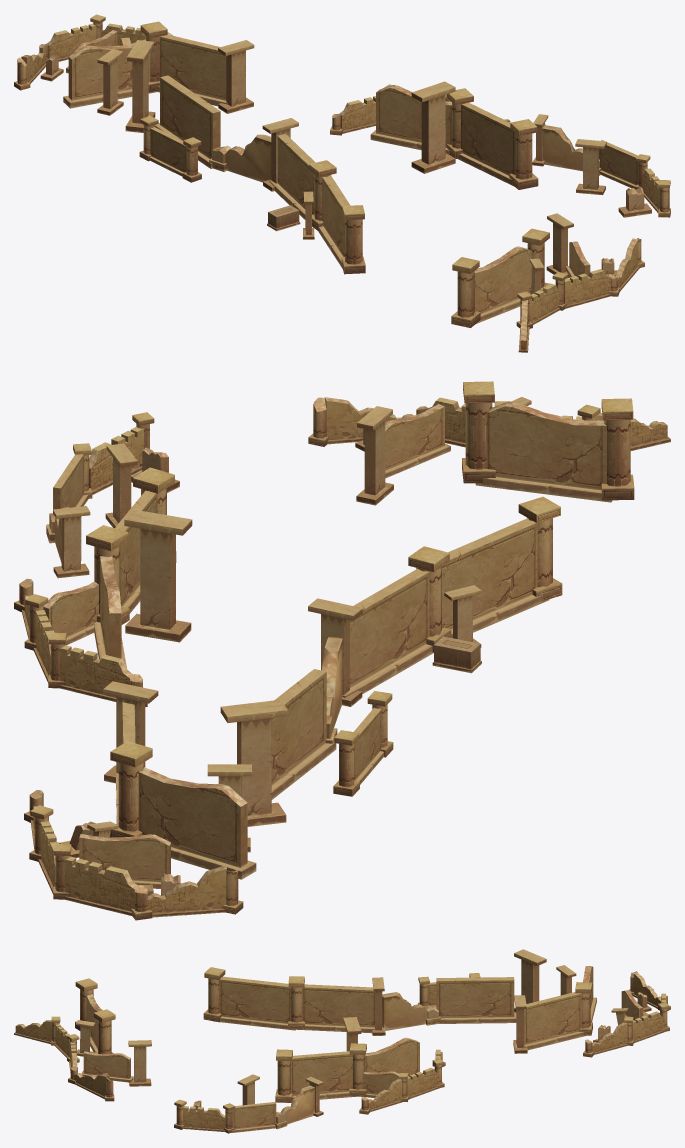
The model's file is qiangmian_05.fbx.
3 renders of one model, top to bottom at view 1: azimuth 30°, elevation 25°; view 2: azimuth 150°, elevation 25°; view 3: azimuth 270°, elevation 25°, orthographic. The views are drawn at different scales.
Parts seen in each view (by area): view 1: qiangmian_05; view 2: qiangmian_05; view 3: qiangmian_05.
Part boxes in pixels (x1,y1,x2,y2): qiangmian_05: (14,14,670,352); qiangmian_05: (14,381,670,920); qiangmian_05: (14,949,670,1133).
Size of the model in its own units: 4933 by 1070 by 9662.
Materials: 1 (1 with a texture image).
